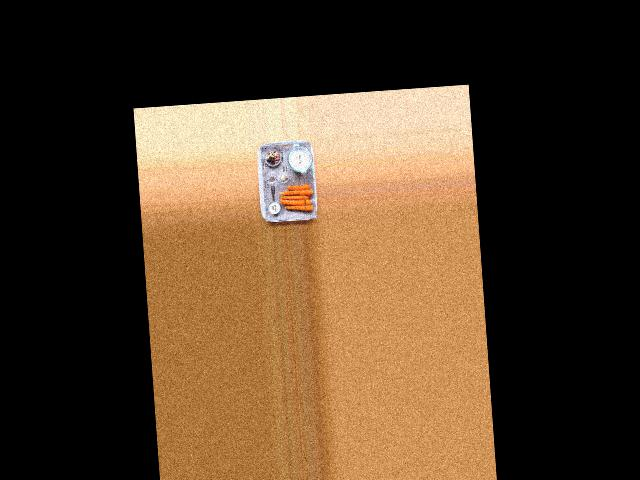carrot: (283, 202, 313, 212)
